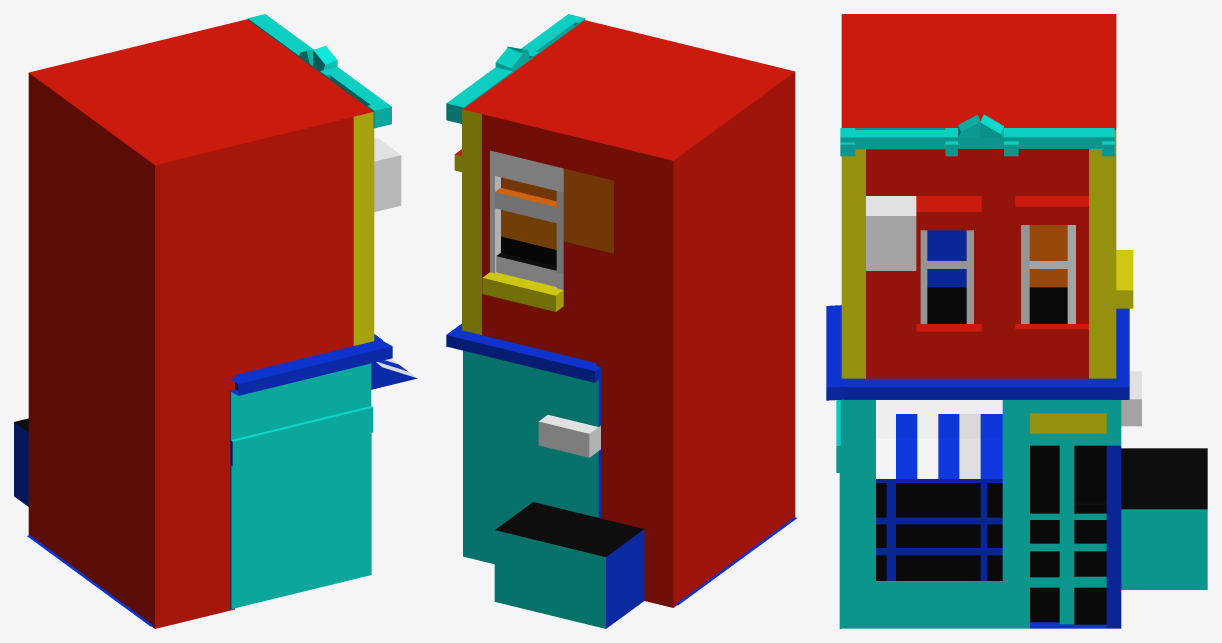
File: casa.fbx
3 views of the same model, side by side, from view 1: azimuth 30°, elevation 25°; view 2: azimuth 150°, elevation 25°; view 3: azimuth 270°, elevation 25° (orthographic). The views are drawn at different scales.
Visible parts, largest first — view 1: Cube.001, Cube, Cube.002; view 2: Cube.001, Cube, Cube.002; view 3: Cube.001, Cube, Cube.002.
Boxes of the visible parts, bbox=[...] form: Cube.001: bbox=[28, 19, 401, 628]; Cube: bbox=[14, 334, 417, 626]; Cube.002: bbox=[247, 14, 391, 128]; Cube.001: bbox=[454, 20, 795, 607]; Cube: bbox=[446, 323, 796, 628]; Cube.002: bbox=[446, 14, 585, 123]; Cube.001: bbox=[841, 14, 1133, 378]; Cube: bbox=[826, 305, 1207, 628]; Cube.002: bbox=[840, 114, 1114, 156].
Bounding box in the file's own units: 7626 × 12459 × 8237.
